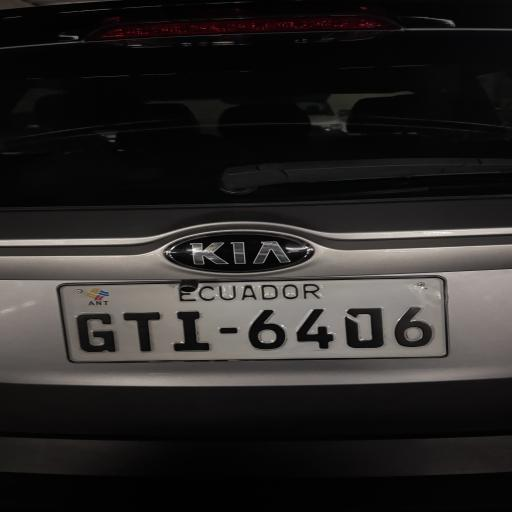license_plate: (60, 278, 446, 361)
